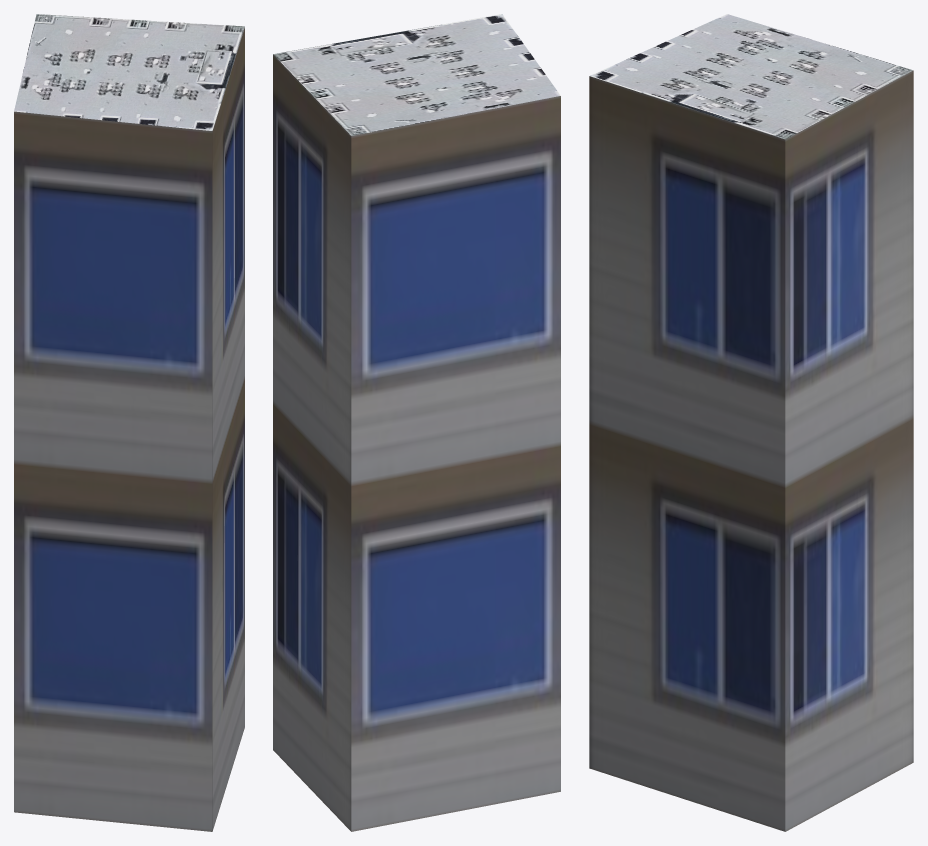
File: ResTex__2128.fbx
The picture shows the model from 3 angles, left to right: view 1: azimuth 30°, elevation 25°; view 2: azimuth 150°, elevation 25°; view 3: azimuth 270°, elevation 25°; orthographic projection.
Parts seen in each view (by area): view 1: CityEngineMaterial_23_m, CityEngineMaterial_m; view 2: CityEngineMaterial_23_m, CityEngineMaterial_m; view 3: CityEngineMaterial_23_m, CityEngineMaterial_m.
Boxes of the visible parts, box(x1,y1,x2,y2) form: CityEngineMaterial_23_m: box(14, 27, 244, 831); CityEngineMaterial_m: box(14, 14, 244, 130); CityEngineMaterial_23_m: box(273, 54, 560, 831); CityEngineMaterial_m: box(273, 14, 560, 135); CityEngineMaterial_23_m: box(589, 70, 913, 831); CityEngineMaterial_m: box(590, 14, 912, 139).
Size of the model in its own units: 2.33 by 6 by 2.55.
2 materials, 2 textured.
